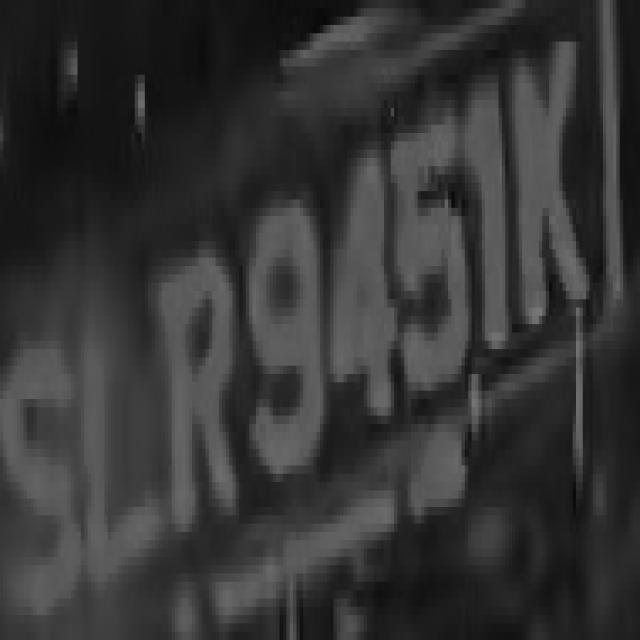1: (462, 50, 516, 374)
4: (313, 108, 401, 457)
5: (394, 100, 468, 416)
9: (239, 183, 334, 507)
K: (512, 8, 589, 374)
L: (70, 258, 162, 582)
R: (152, 224, 239, 548)
S: (0, 308, 74, 632)
